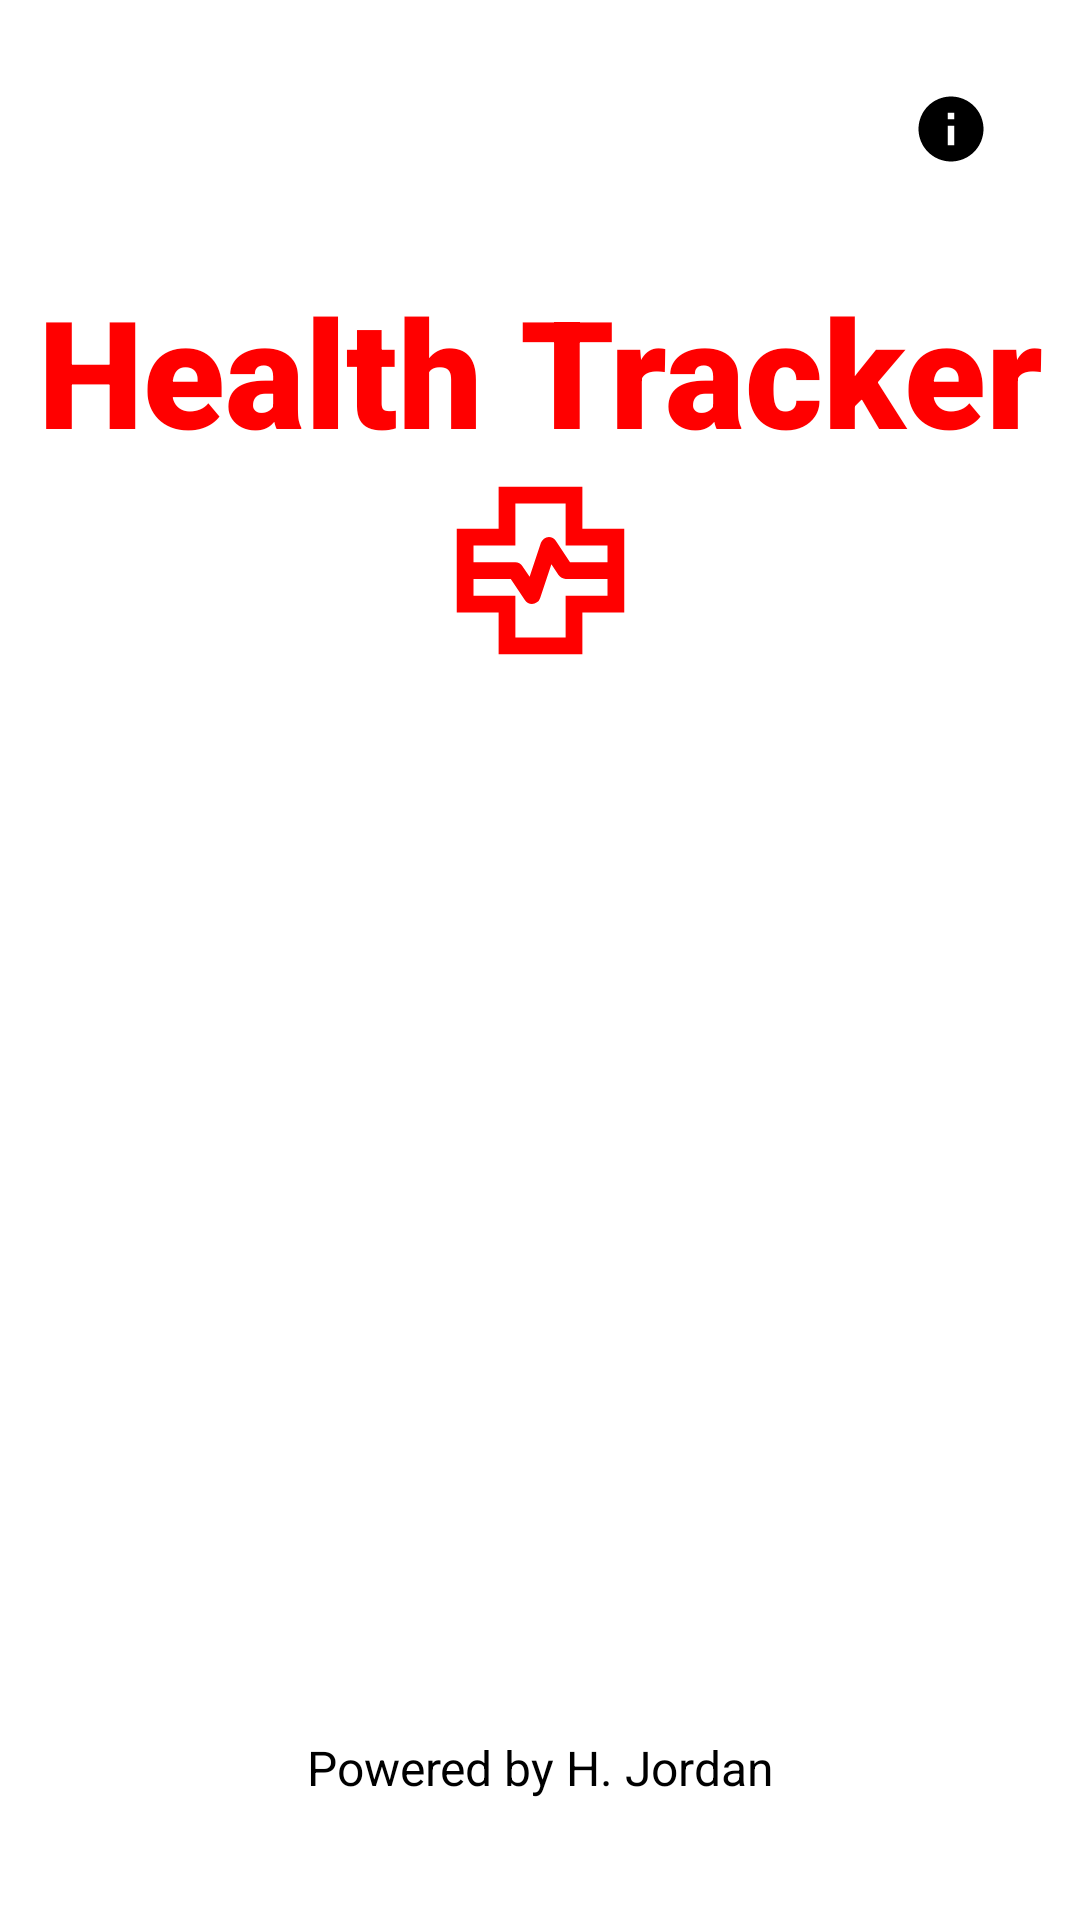

Screen size 1080w x 1920h. Icon name, then its box in pixels as rect(x1, y1, x2, y2):
health metrics: rect(456, 486, 625, 655)
info: rect(918, 96, 984, 162)
